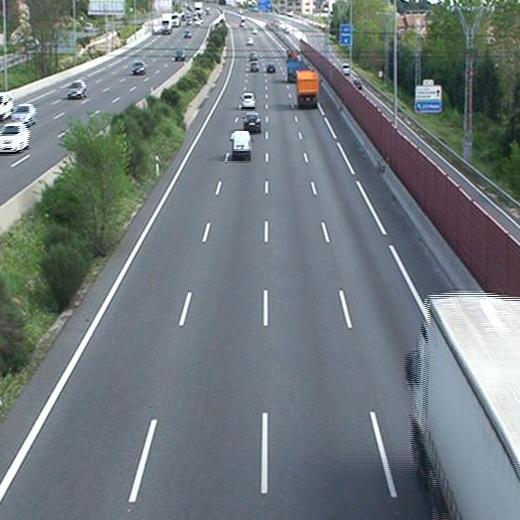car: (243, 112, 262, 132), (241, 92, 256, 108), (265, 63, 277, 75), (250, 61, 260, 72)
small-truck: (294, 69, 320, 108)
van: (229, 130, 252, 157)
